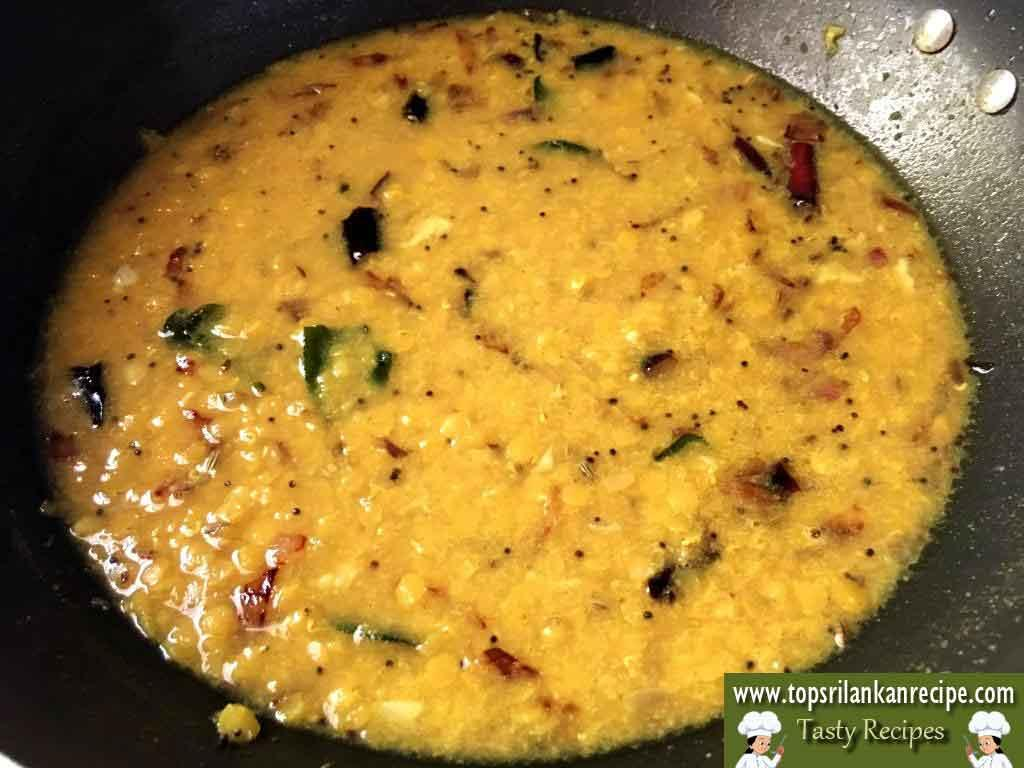Dhal Curry: (57, 27, 959, 661)
